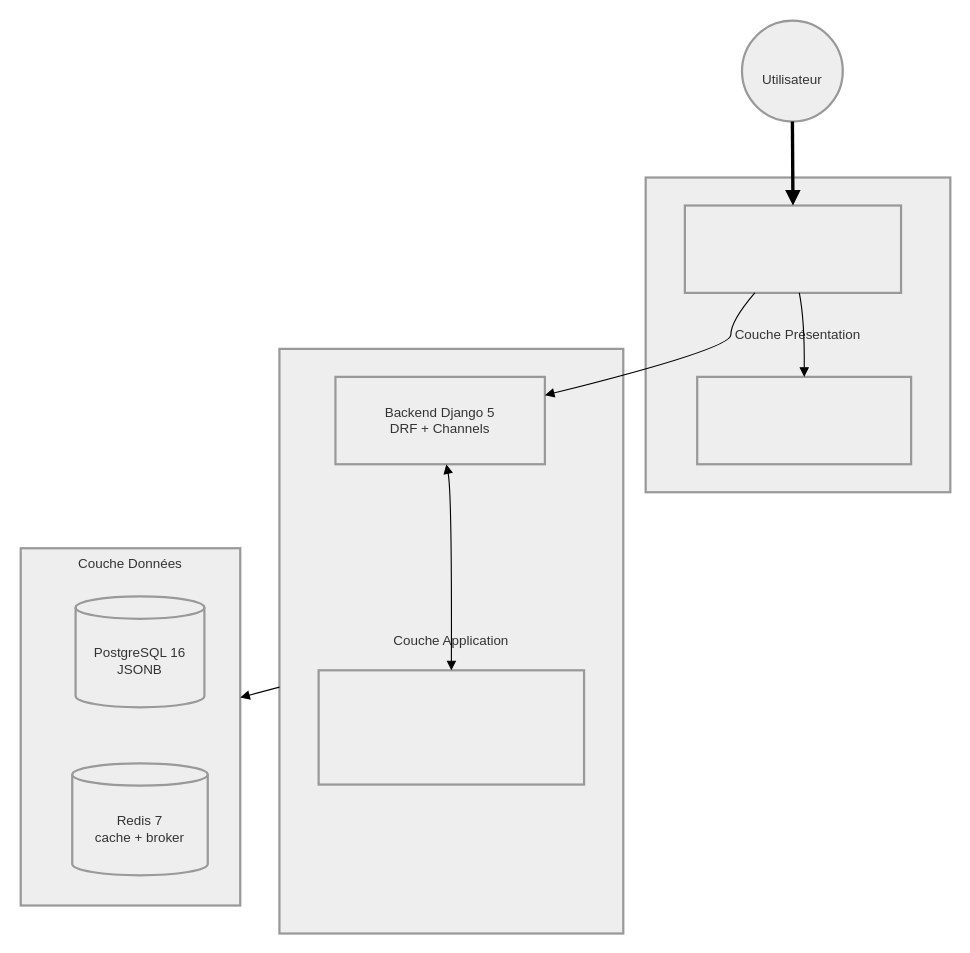
This 970x953 diagram has some shape labels left out. The shapes that lost their labels are listed below. From the top down, each one's centre as x and y in pixels, then its label:
At (792,248): "Nginx + SSL Let's Encrypt".
At (804,420): "Frontend React 18 Vite + Axios".
At (451,727): "Moteur IA Flask paraphrase-multilingual- mpnet-base-v2".
